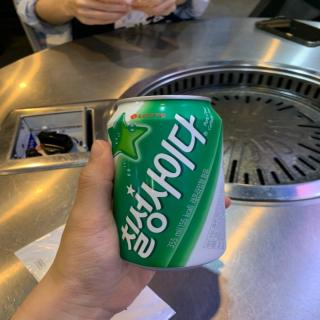chilsung: (106, 92, 229, 271)
